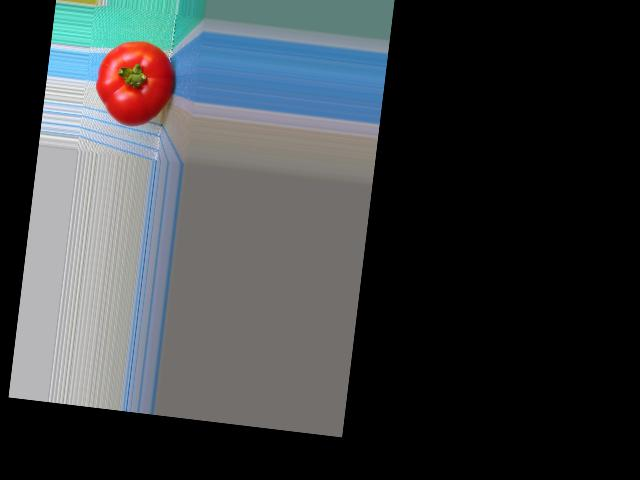tomato: (91, 36, 179, 130)
